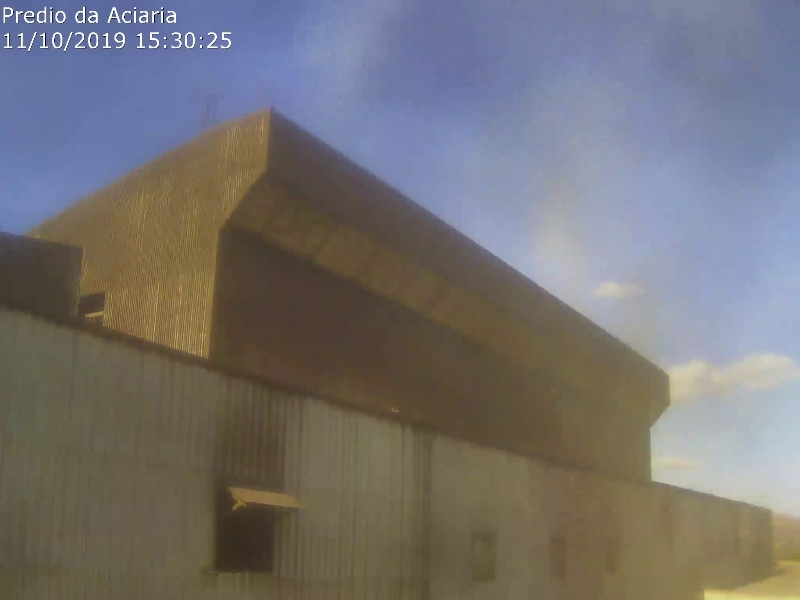ruim: (536, 87, 720, 448)
